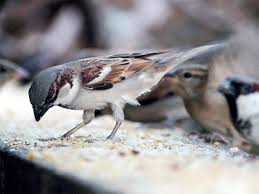hsparrow: (25, 40, 231, 139), (160, 65, 252, 154)
